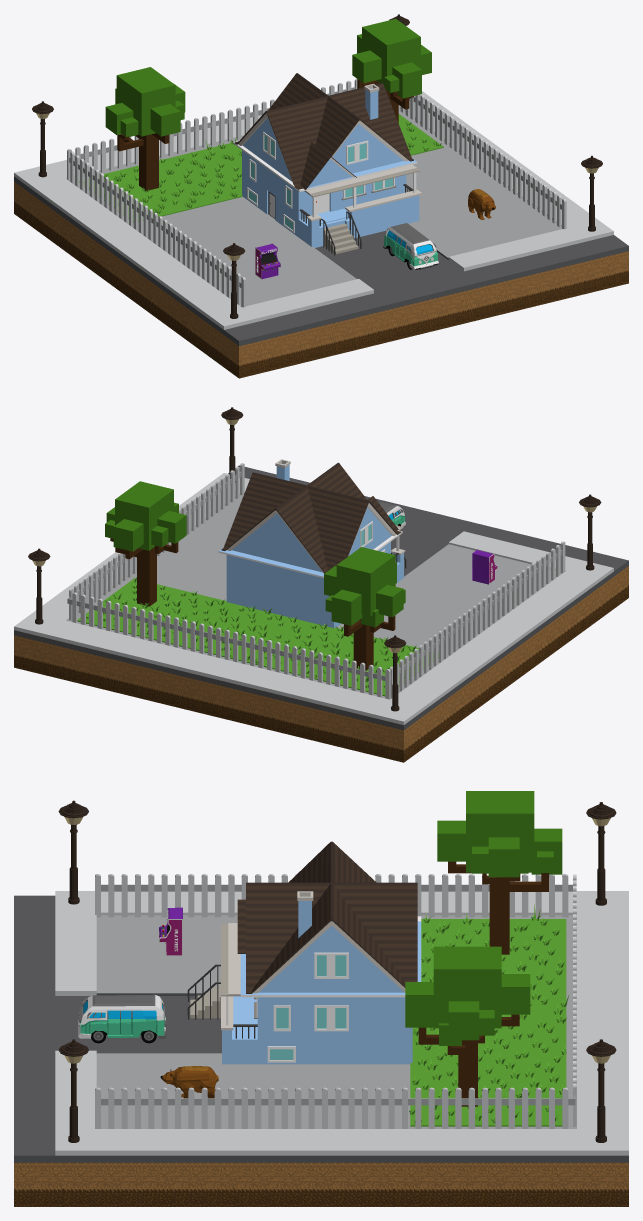
3 renders of one model, top to bottom at view 1: azimuth 30°, elevation 25°; view 2: azimuth 150°, elevation 25°; view 3: azimuth 270°, elevation 25°, orthographic. The views are drawn at different scales.
Parts seen in each view (by area): view 1: Cube.004, Cube.1594, VEHICLES_VAN, OBJRANDOM_ARCADE, ANIMAL_OSO; view 2: Cube.004, Cube.1594, OBJRANDOM_ARCADE; view 3: Cube.004, Cube.1594, VEHICLES_VAN, ANIMAL_OSO, OBJRANDOM_ARCADE.
Part boxes in pixels (<box>): Cube.004: <box>14,14,628,378</box>; Cube.1594: <box>233,73,422,255</box>; VEHICLES_VAN: <box>383,223,438,270</box>; OBJRANDOM_ARCADE: <box>255,243,280,279</box>; ANIMAL_OSO: <box>468,189,495,219</box>; Cube.004: <box>14,407,628,762</box>; Cube.1594: <box>218,459,406,627</box>; OBJRANDOM_ARCADE: <box>472,549,497,584</box>; Cube.004: <box>14,791,628,1206</box>; Cube.1594: <box>187,841,421,1064</box>; VEHICLES_VAN: <box>78,994,166,1043</box>; ANIMAL_OSO: <box>160,1066,218,1098</box>; OBJRANDOM_ARCADE: <box>159,907,182,956</box>.
Bounding box in the file's own units: 4000 × 1753 × 4000.
Materials: 42 (3 with a texture image).
